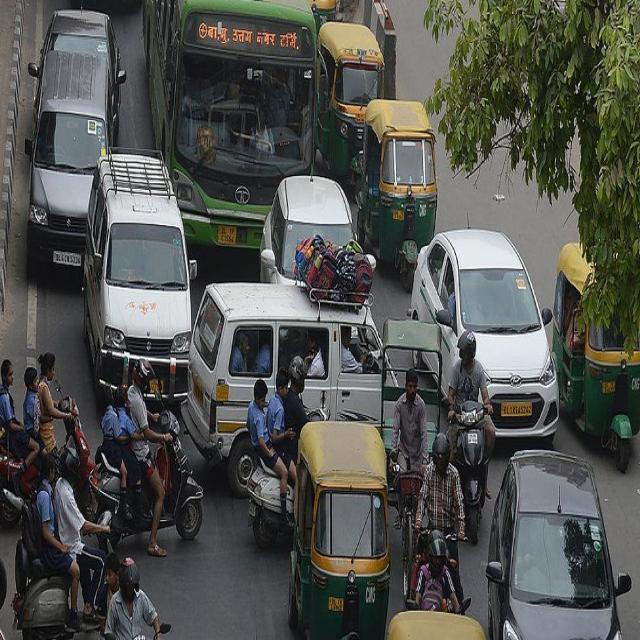autorickshaw: (289, 422, 390, 640), (552, 242, 640, 471), (356, 100, 438, 289), (316, 22, 384, 181)
bus: (142, 0, 319, 248)
car: (181, 282, 381, 498), (411, 229, 559, 441), (82, 149, 196, 402), (486, 451, 630, 639), (28, 51, 112, 263), (260, 176, 354, 283)
motorcycle: (12, 447, 119, 640), (90, 358, 202, 540), (0, 353, 94, 526), (448, 331, 495, 543)
